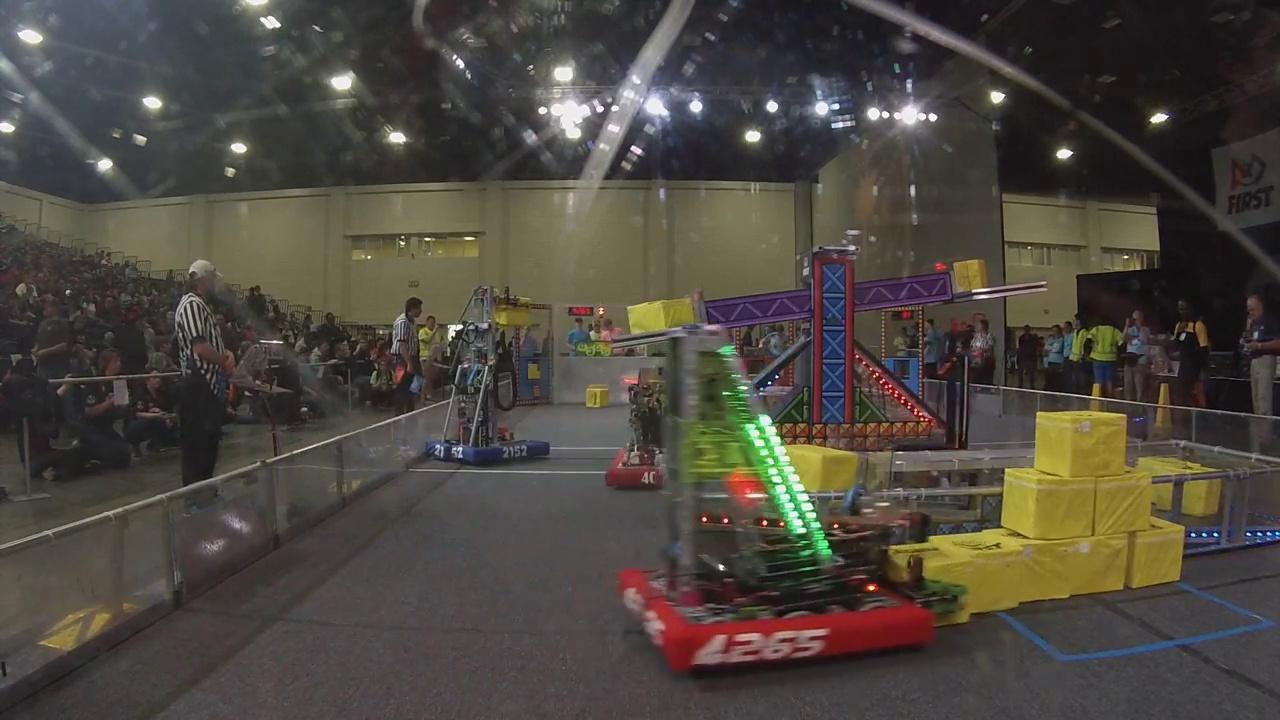robot: (616, 332, 968, 676), (426, 281, 554, 467), (606, 364, 721, 492)
